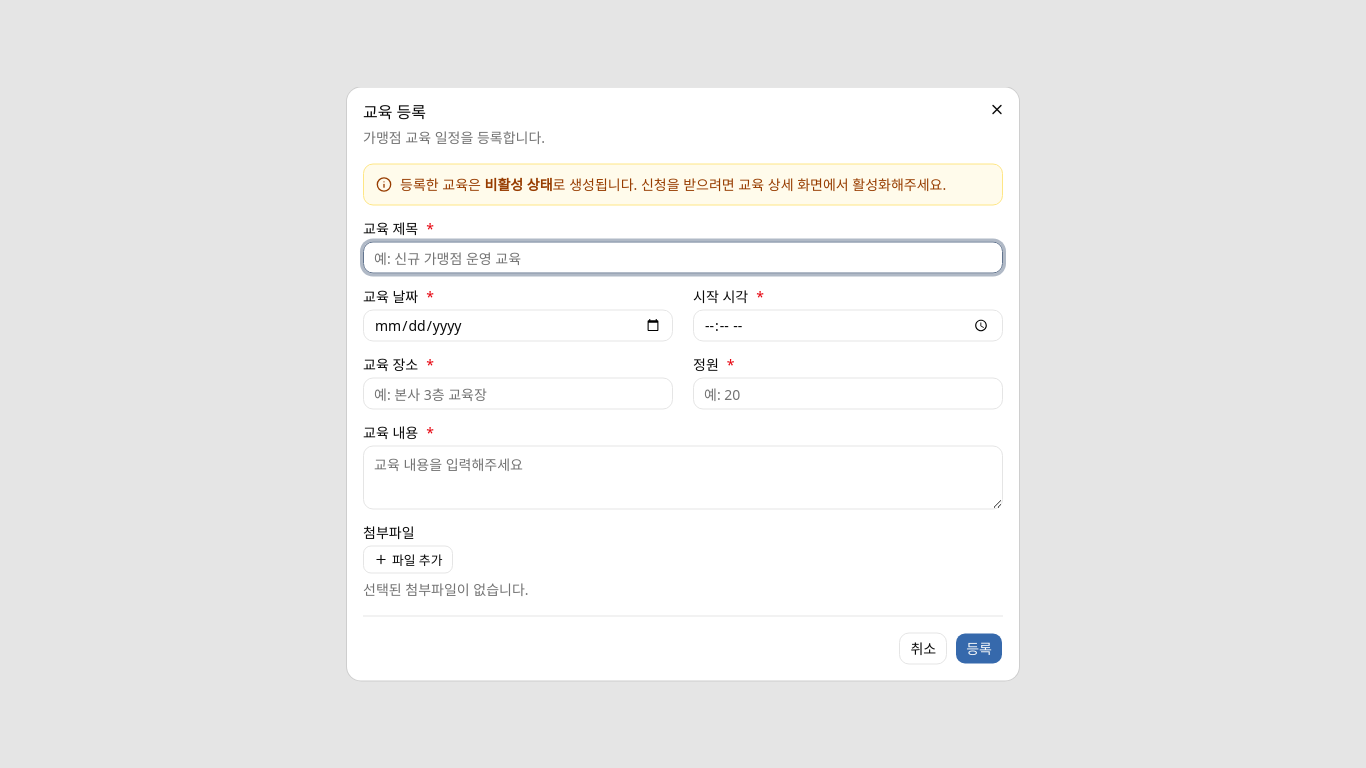
Test: FranchiseEducationCreateDialog › 정원이 0이면 "정원은 양수여야 합니다" 인라인 에러가 표시된다
This screenshot has width=1366, height=768.
Type "2026-07-15" into the date field labelled "교육 날짜 *" at (518, 326), box left=363, top=310, right=673, bottom=342
Type "09:30" into the time field labelled "시작 시각 *" at (848, 326), box left=693, top=310, right=1003, bottom=342
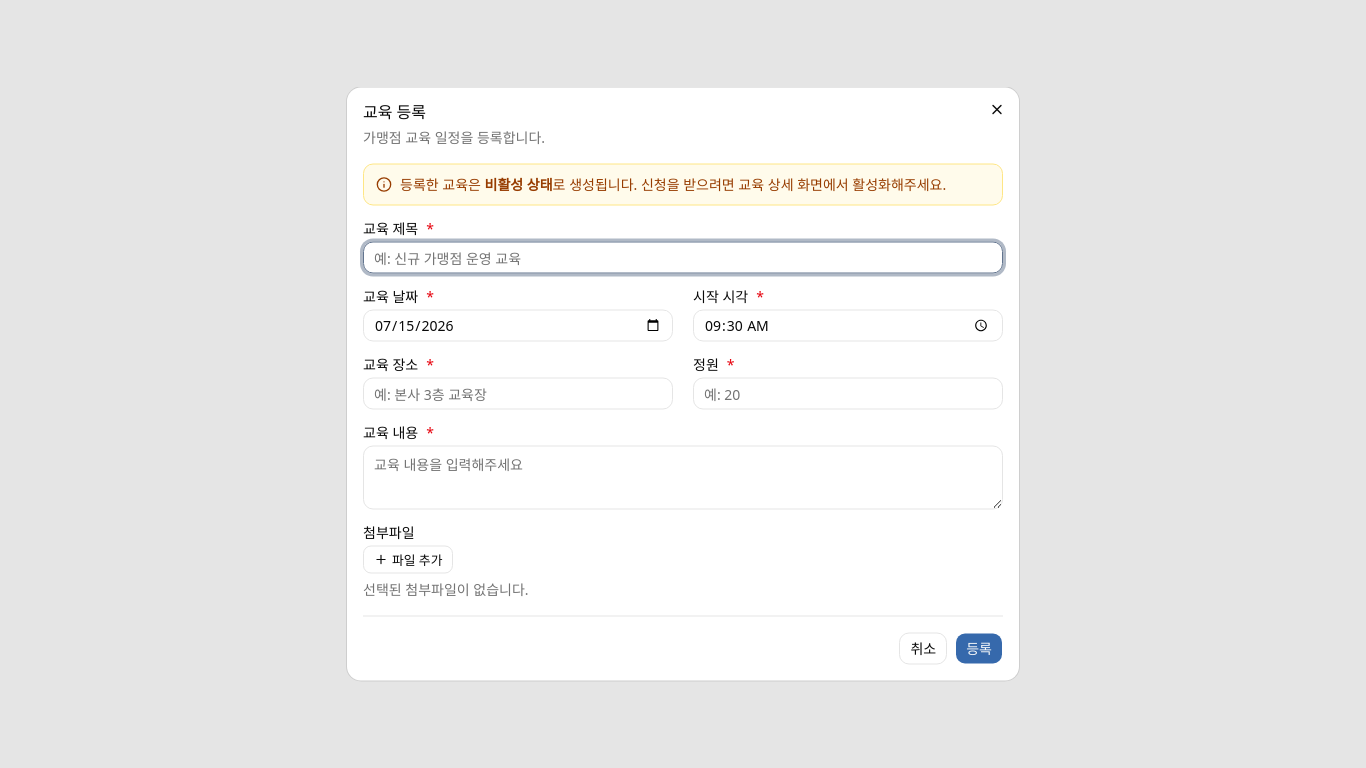
Type "본사 3층 교육장" into the field labelled "교육 장소 *" at (518, 394), box left=363, top=378, right=673, bottom=410
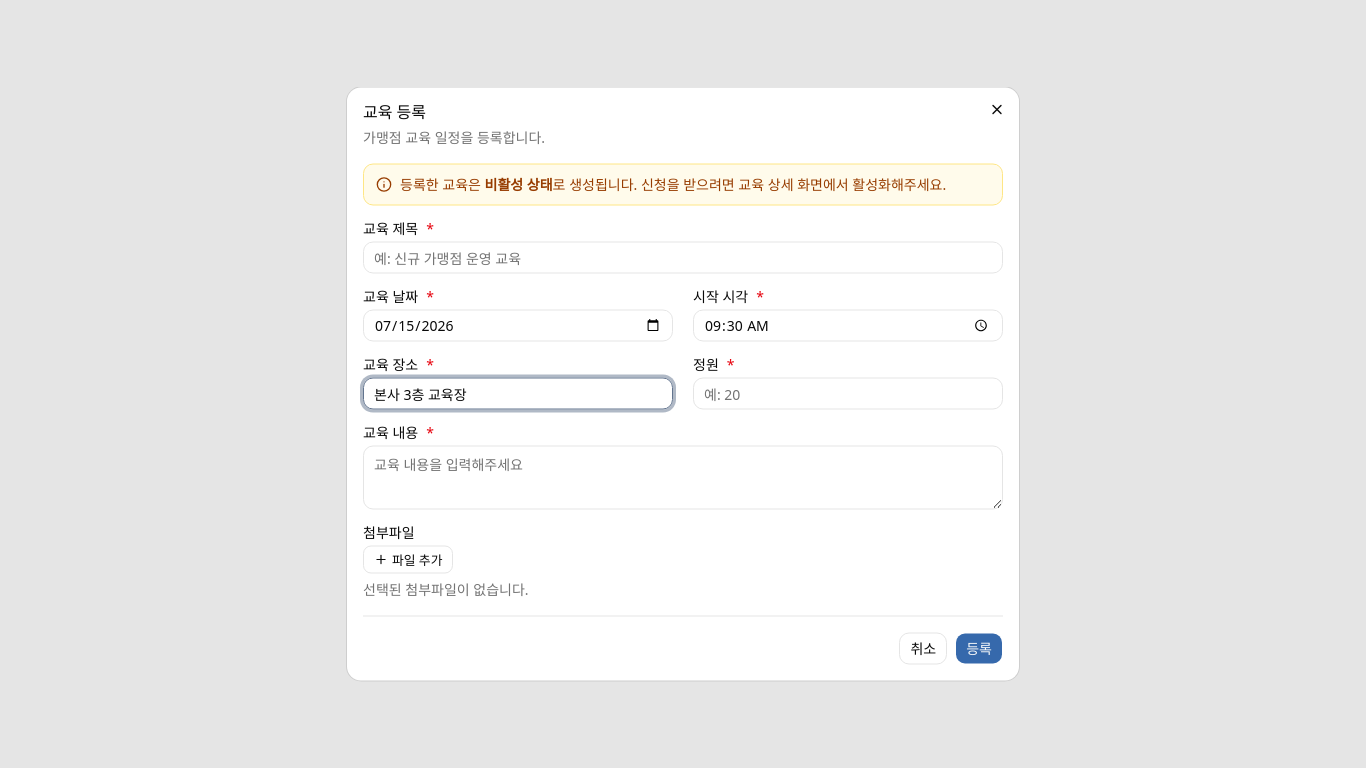
Type "신규 가맹점 운영 교육" into the field labelled "교육 제목 *" at (683, 258), box left=363, top=242, right=1003, bottom=274
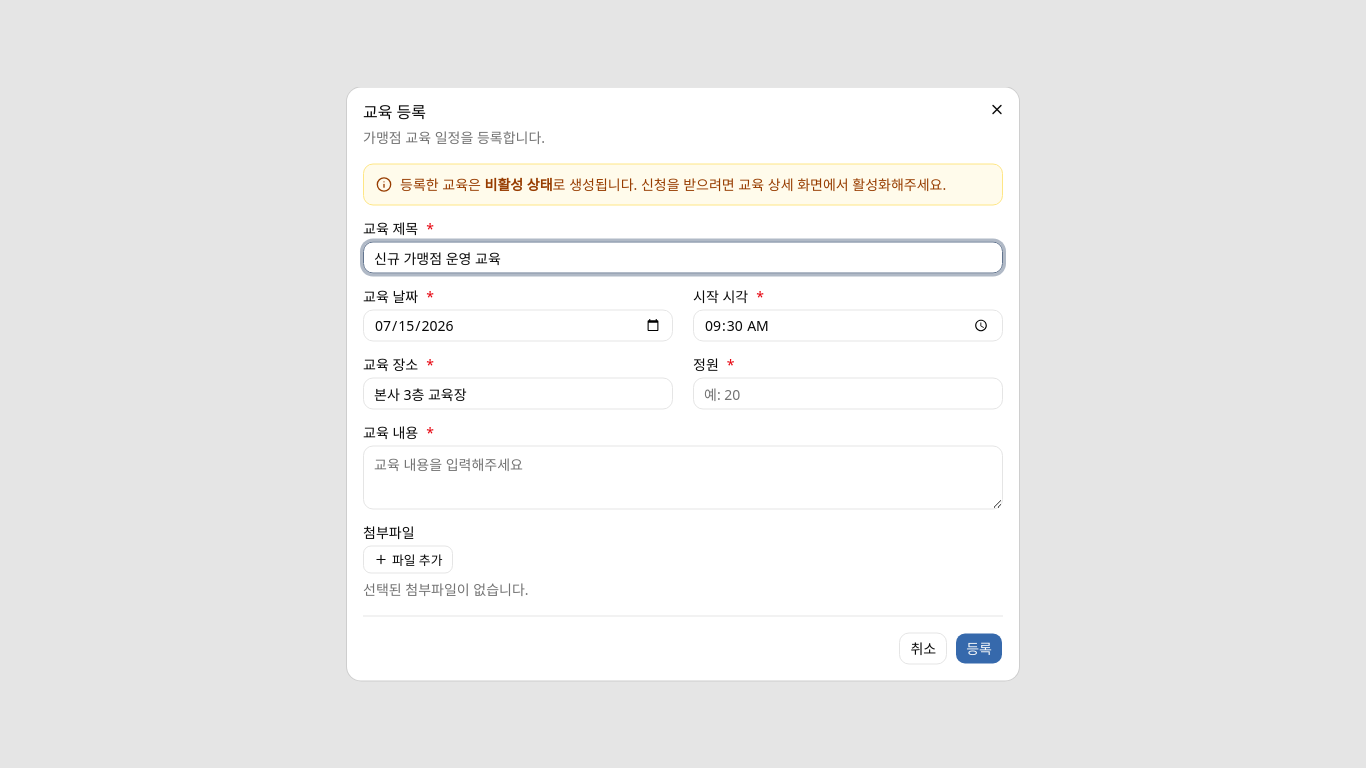
Type "가맹점 운영 전반 교육 내용" into the text box labelled "교육 내용 *" at (683, 478), box left=363, top=446, right=1003, bottom=510
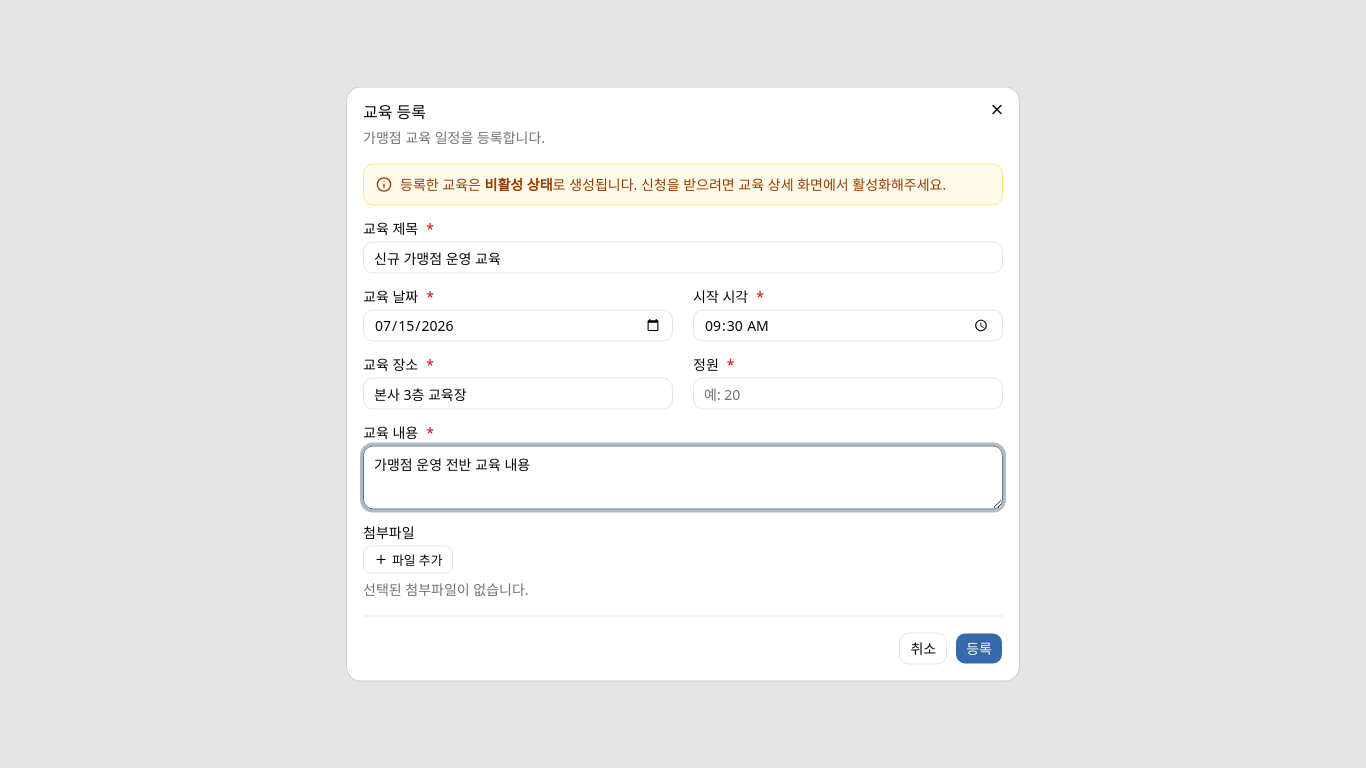
Type "0" into the number field labelled "정원 *" at (848, 394), box left=693, top=378, right=1003, bottom=410
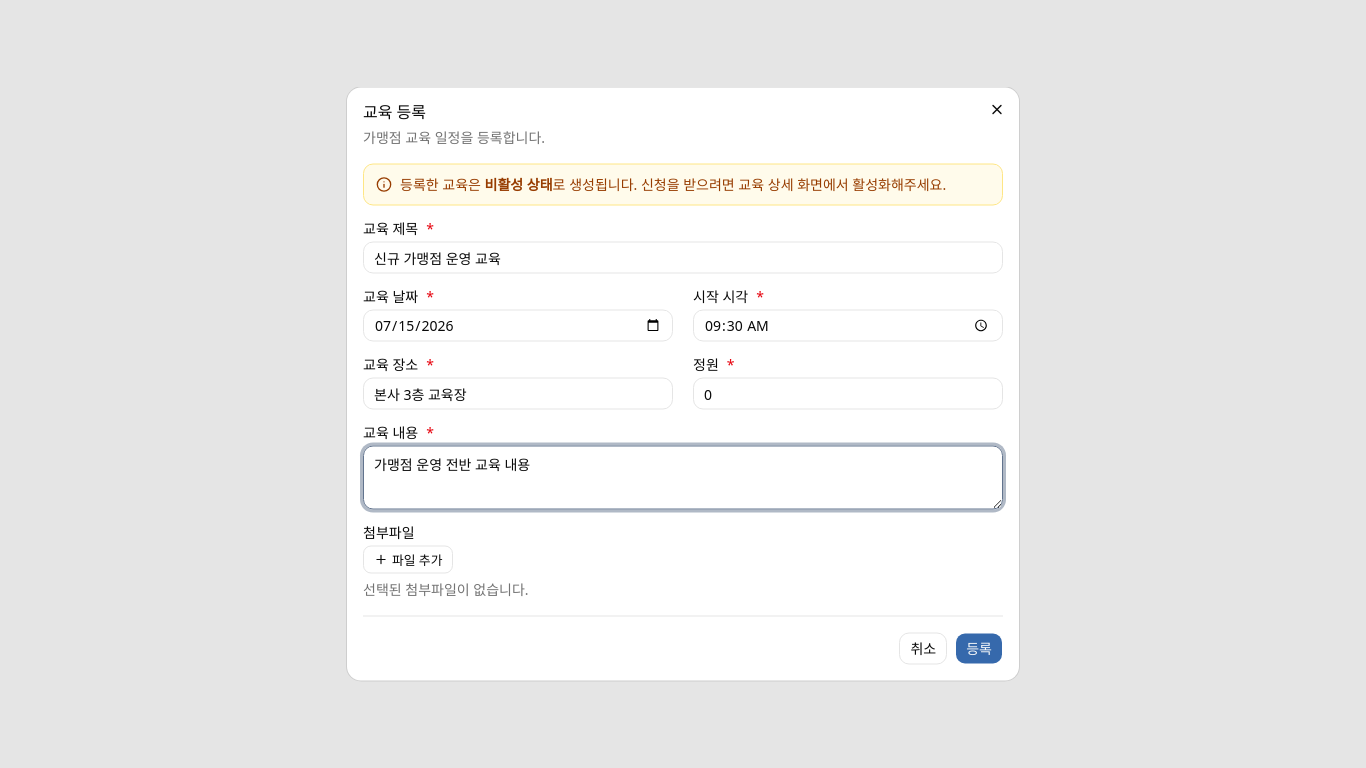
Click the button "등록" at (979, 648), box left=955, top=632, right=1003, bottom=664
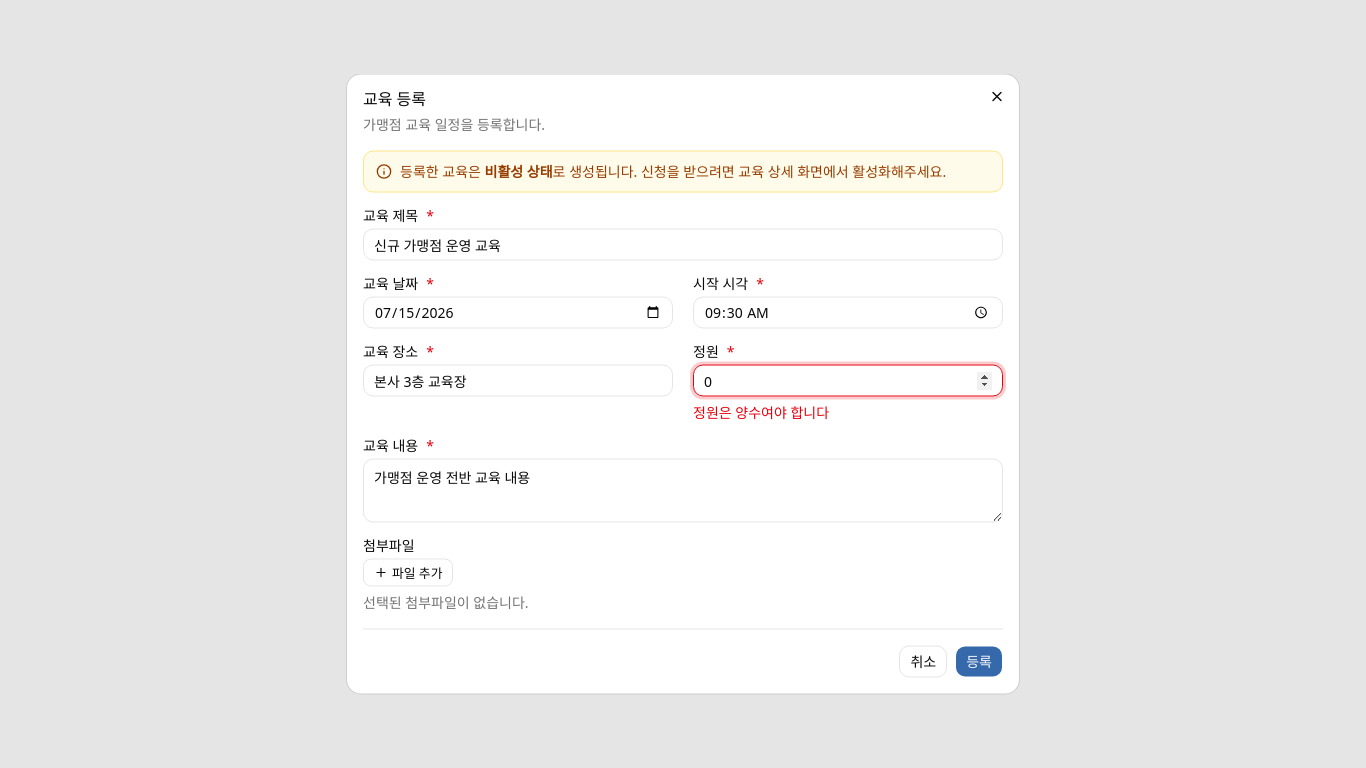
Result: the text "정원은 양수여야 합니다" is shown at left=693, top=402, right=829, bottom=422
